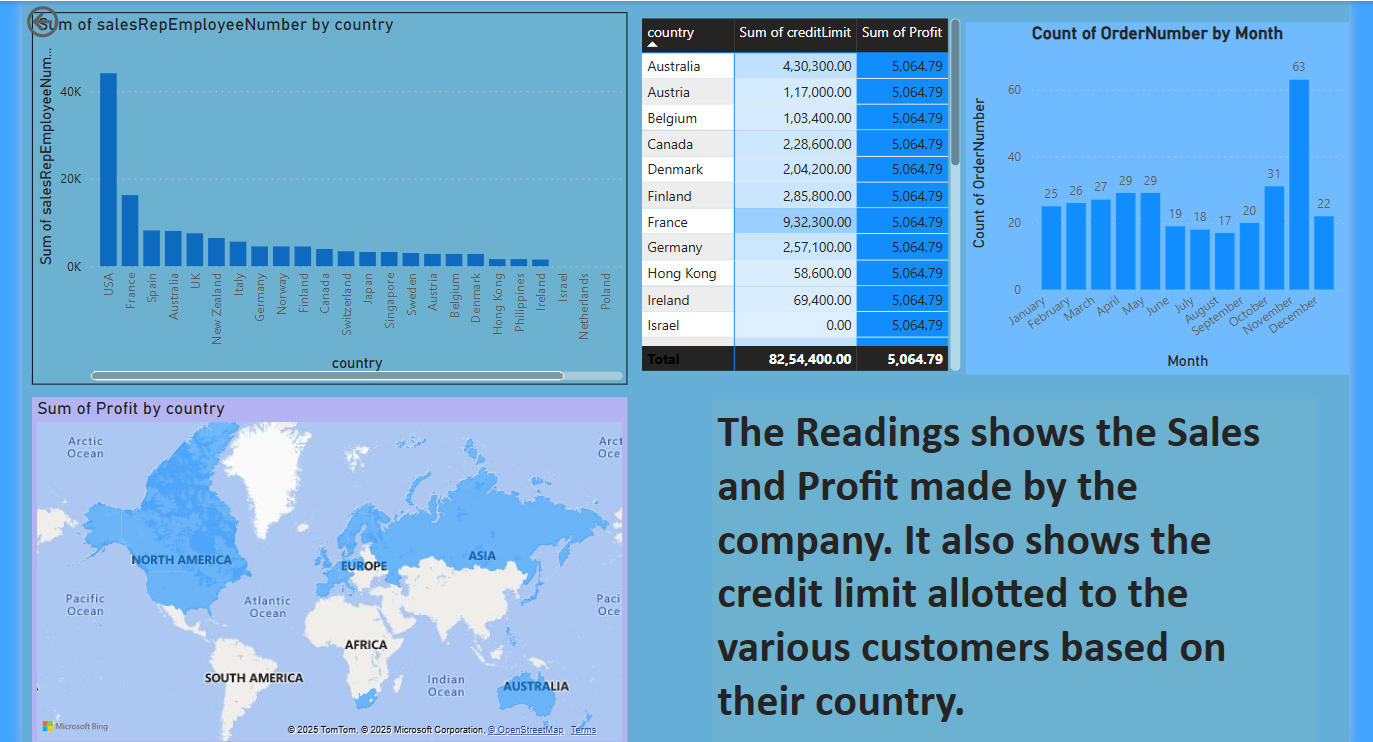

The dashboard page shown, as its layout file describes it:
{"tool":"powerbi","page":{"name":"Sales & Profit","canvas":[1280,720],"ordinal":1},"visuals":[{"type":"columnChart","fields":{"Category":["classicmodels customers.country"],"Y":["Sum(classicmodels customers.salesRepEmployeeNumber)"]},"box":[9.6,11,574.5,359.2],"z":0},{"type":"pivotTable","fields":{"Rows":["classicmodels customers.country"],"Values":["Sum(classicmodels customers.creditLimit)","Sum(classicmodels products.Profit)"]},"box":[593.7,12.3,316.7,349.6],"z":1000},{"type":"actionButton","box":[0,0,100,40],"z":2000},{"type":"filledMap","fields":{"Category":["classicmodels customers.country"]},"box":[9.6,382.5,574.5,337.3],"z":3000},{"type":"textbox","box":[666,383,583,337],"z":4000},{"type":"columnChart","fields":{"Category":["classicmodels orders.OrderDate.Variation.Date Hierarchy.Year","classicmodels orders.OrderDate.Variation.Date Hierarchy.Month"],"Y":["CountNonNull(classicmodels orders.OrderNumber)"]},"box":[910.4,20.6,370.2,340],"z":5000}]}

Visuals, with their boxes on the page's 1280x720 design canvas (x1, y1, x2, y2). These are canvas units, not pixel positions in the 1373x742 screenshot, which may show the page scaled, cropped or inside an application window:
columnChart - classicmodels customers.country x Sum(classicmodels customers.salesRepEmployeeNumber): bbox(10, 11, 584, 370)
pivotTable - classicmodels customers.country x Sum(classicmodels customers.creditLimit): bbox(594, 12, 910, 362)
actionButton: bbox(0, 0, 100, 40)
filledMap - classicmodels customers.country: bbox(10, 382, 584, 720)
textbox: bbox(666, 383, 1249, 720)
columnChart - classicmodels orders.OrderDate.Variation.Date Hierarchy.Year x classicmodels orders.OrderDate.Variation.Date Hierarchy.Month: bbox(910, 21, 1281, 361)
